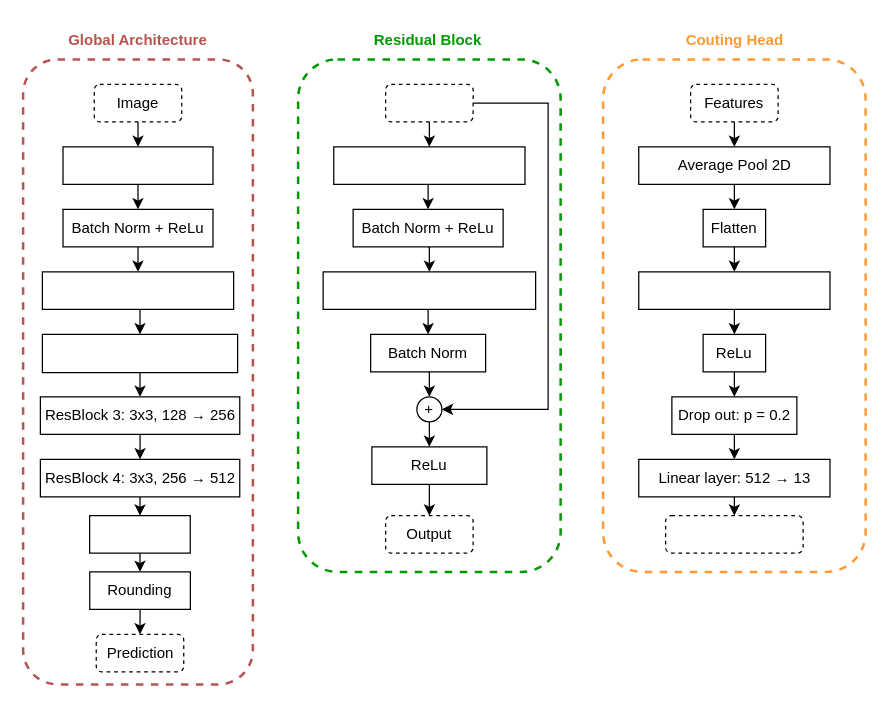
The diagram is 888 pixels wide and 706 high, and some of its shapes have lost their labels. Each missing label, with the centre of its shape:
"Conv: 3x3, 3 → 64" goes at (x=137, y=165).
"Conv: 3x3, in_ch → out_ch" goes at (x=428, y=165).
"Conv: 3x3, out_ch → out_ch" goes at (x=429, y=290).
"Count Head" goes at (x=139, y=533).
"Float predictions" goes at (x=733, y=533).
"Input" goes at (x=428, y=102).
"Linear layer: 512 → 512" goes at (x=734, y=290).
"ResBlock 1: 3x3, 64 → 64" goes at (x=137, y=290).
"ResBlock 2: 3x3, 64 → 128" goes at (x=139, y=353).
